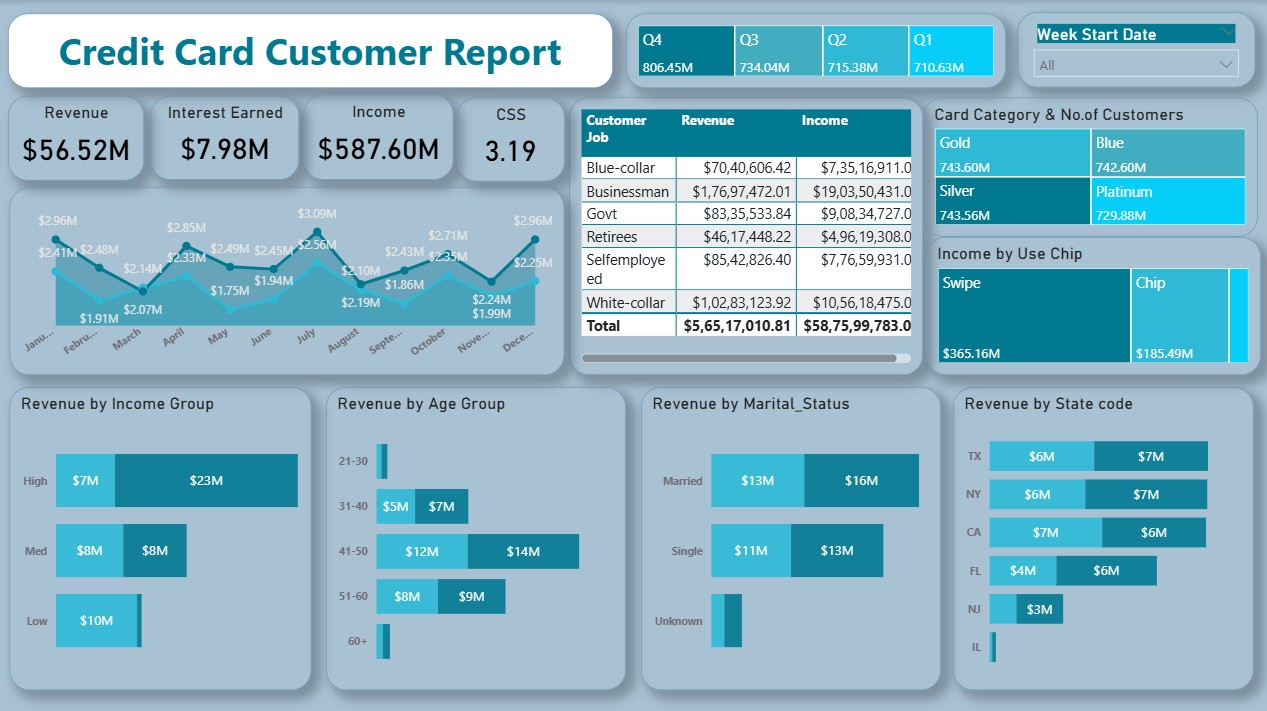

The page's visual inventory and layout, read from the dashboard file:
{"tool":"powerbi","page":{"name":"CC Customer","canvas":[1280,720],"ordinal":1},"visuals":[{"type":"textbox","box":[9.4,13.2,610.4,75.6],"z":0},{"type":"barChart","title":"Revenue by Income Group","fields":{"Y":["Sum(cc_detail.Revenue)"],"Category":["cust_detail.Income Group"],"Series":["cust_detail.Gender"]},"box":[10.6,390.2,304.4,305.9],"z":1000},{"type":"tableEx","fields":{"Values":["cust_detail.Customer_Job","Sum(cc_detail.Revenue)","Sum(cust_detail.Income)"]},"box":[575.4,98.4,357.4,280.1],"z":2000},{"type":"card","title":"Revenue","fields":{"Values":["Sum(cc_detail.Revenue)"]},"box":[9.3,96.7,137,85],"z":3000},{"type":"card","title":"Interest Earned","fields":{"Values":["Sum(cc_detail.Interest_Earned)"]},"box":[152.9,96.9,149.9,84.8],"z":4000},{"type":"card","title":"Income","fields":{"Values":["Sum(cust_detail.Income)"]},"box":[307.4,95.4,151.4,86.3],"z":5000},{"type":"card","title":"CSS","fields":{"Values":["Avg(cust_detail.Cust_Satisfaction_Score)"]},"box":[461.8,98.4,109,84.8],"z":6000},{"type":"slicer","fields":{"Values":["cc_detail.Week_Start_Date"]},"box":[1028.1,12.5,239.9,76.2],"z":7000},{"type":"treemap","fields":{"Group":["cc_detail.Qtr"],"Values":["Avg(cc_detail.Client_Num)"]},"box":[633.1,13.2,383.6,75.6],"z":8000},{"type":"treemap","title":"Card Category & No.of Customers","fields":{"Values":["Avg(cc_detail.Client_Num)"],"Group":["cc_detail.Card_Category"]},"box":[932.8,98.4,337.7,140.8],"z":10000},{"type":"lineChart","title":"Revenue by Week","fields":{"Series":["cust_detail.Gender"],"Y":["Sum(cc_detail.Revenue)"],"Category":["cc_detail.Week_Start_Date.Variation.Date Hierarchy.Year","cc_detail.Week_Start_Date.Variation.Date Hierarchy.Month","cc_detail.Week_Start_Date.Variation.Date Hierarchy.Day"]},"box":[10.6,189.3,560.3,189.3],"z":11000},{"type":"barChart","title":"Revenue by Age Group","fields":{"Y":["Sum(cc_detail.Revenue)"],"Category":["cust_detail.Age Group"],"Series":["cust_detail.Gender"]},"box":[330.1,390.2,302.8,305.9],"z":12000},{"type":"barChart","title":"Revenue by Marital_Status","fields":{"Y":["Sum(cc_detail.Revenue)"],"Category":["cust_detail.Marital_Status"],"Series":["cust_detail.Gender"]},"box":[648.1,390.2,302.8,305.9],"z":13000},{"type":"barChart","title":"Revenue by State code","fields":{"Y":["Sum(cc_detail.Revenue)"],"Category":["cust_detail.State_cd"],"Series":["cust_detail.Gender"]},"box":[963,390.2,303,305.9],"z":14000},{"type":"treemap","title":"Income by Use Chip","fields":{"Group":["cc_detail.Use_Chip"],"Values":["Sum(cust_detail.Income)"]},"box":[935.8,239.2,337.7,139.3],"z":16000}]}

Visuals, with their boxes in screenshot pixels (x1, y1, x2, y2), scaled from the page's 1280x720 canvas onto the 1267x711 screenshot:
textbox: crop(9, 13, 614, 88)
"Revenue by Income Group" barChart: crop(10, 385, 312, 687)
tableEx - cust_detail.Customer_Job x Sum(cc_detail.Revenue): crop(570, 97, 923, 374)
"Revenue" card: crop(9, 95, 145, 179)
"Interest Earned" card: crop(151, 96, 300, 179)
"Income" card: crop(304, 94, 454, 179)
"CSS" card: crop(457, 97, 565, 181)
slicer - cc_detail.Week_Start_Date: crop(1018, 12, 1255, 88)
treemap - cc_detail.Qtr x Avg(cc_detail.Client_Num): crop(627, 13, 1006, 88)
"Card Category & No.of Customers" treemap: crop(923, 97, 1258, 236)
"Revenue by Week" lineChart: crop(10, 187, 565, 374)
"Revenue by Age Group" barChart: crop(327, 385, 626, 687)
"Revenue by Marital_Status" barChart: crop(642, 385, 941, 687)
"Revenue by State code" barChart: crop(953, 385, 1253, 687)
"Income by Use Chip" treemap: crop(926, 236, 1261, 374)
